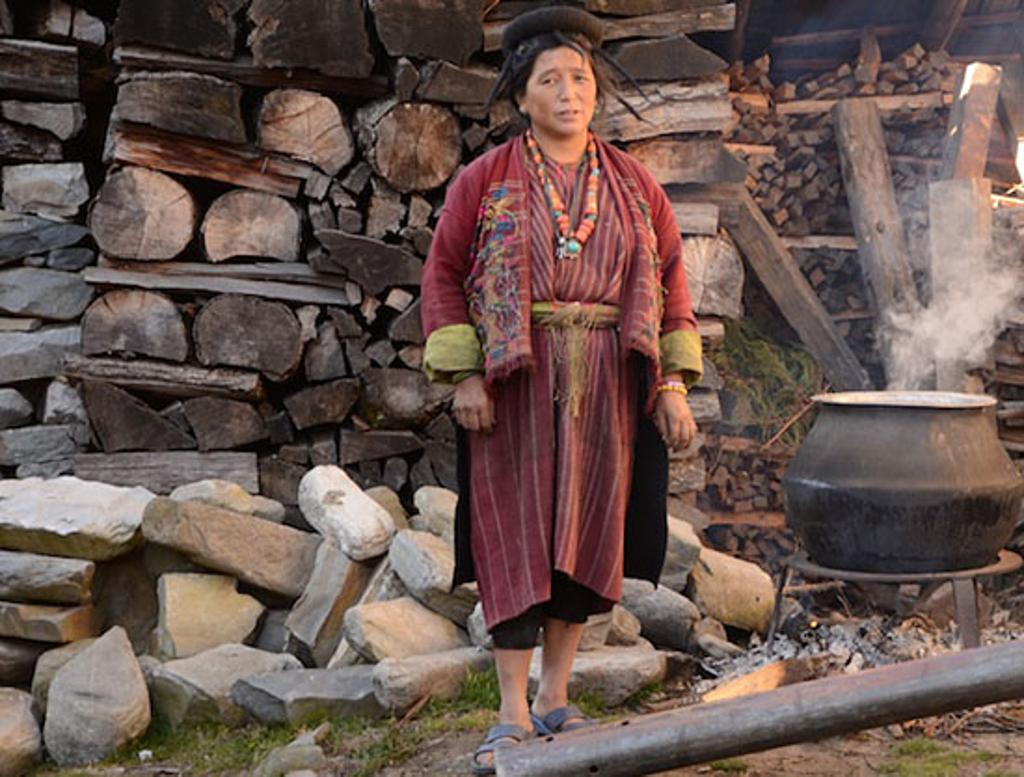face: (528, 48, 594, 136)
